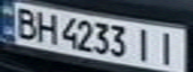2: (72, 17, 93, 53)
3: (109, 22, 130, 60), (90, 20, 112, 56)
4: (57, 16, 78, 50)
B: (9, 6, 42, 39)
H: (33, 9, 60, 44)
I: (151, 29, 184, 66), (130, 26, 157, 64)
